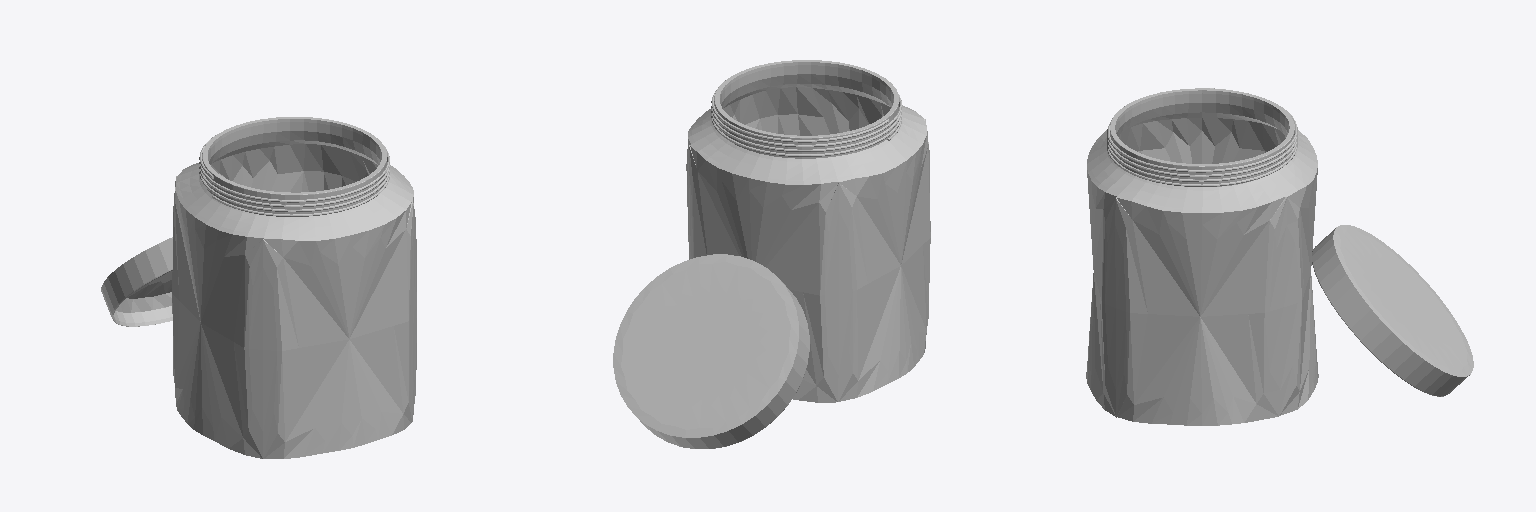
File: Jar.obj
3 renders of one model, left to right at view 1: azimuth 30°, elevation 25°; view 2: azimuth 150°, elevation 25°; view 3: azimuth 270°, elevation 25°, orthographic.
Visible parts, largest first — view 1: Jar, Cap, Ring; view 2: Jar, Cap, Ring; view 3: Jar, Cap, Ring.
Boxes of the visible parts, box(x1,y1,x2,y2) form: Jar: box(172, 117, 416, 458); Cap: box(101, 237, 172, 326); Ring: box(199, 135, 389, 216); Jar: box(686, 60, 930, 402); Cap: box(613, 254, 809, 448); Ring: box(711, 87, 901, 156); Jar: box(1086, 88, 1318, 425); Cap: box(1312, 225, 1473, 396); Ring: box(1107, 88, 1297, 186).
Size of the model in its own units: 2.06 by 2.52 by 3.44.